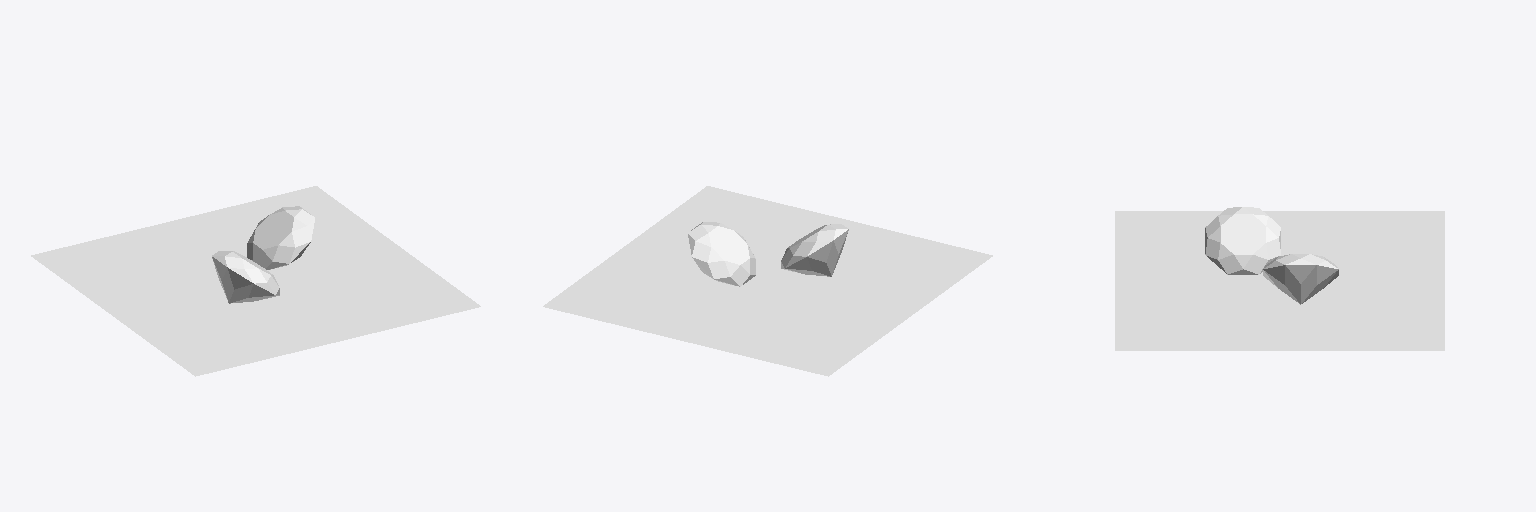
The model's file is diamond.obj.
The picture shows the model from 3 angles: view 1: azimuth 30°, elevation 25°; view 2: azimuth 150°, elevation 25°; view 3: azimuth 270°, elevation 25°; orthographic projection.
Parts seen in each view (by area): view 1: Plane_Plane.002, Pink_Gem_Gem.002, Blue_Gem_Gem.001; view 2: Plane_Plane.002, Pink_Gem_Gem.002, Blue_Gem_Gem.001; view 3: Plane_Plane.002, Blue_Gem_Gem.001, Pink_Gem_Gem.002.
Boxes of the visible parts, x1,y1,x2,y2 form: Plane_Plane.002: [31, 186, 480, 376]; Pink_Gem_Gem.002: [247, 206, 314, 269]; Blue_Gem_Gem.001: [212, 251, 279, 303]; Plane_Plane.002: [543, 186, 992, 376]; Pink_Gem_Gem.002: [688, 222, 755, 286]; Blue_Gem_Gem.001: [781, 224, 848, 276]; Plane_Plane.002: [1115, 211, 1444, 350]; Blue_Gem_Gem.001: [1205, 207, 1280, 274]; Pink_Gem_Gem.002: [1263, 254, 1338, 304].
Bounding box in the file's own units: 8.04 × 1.35 × 8.04.